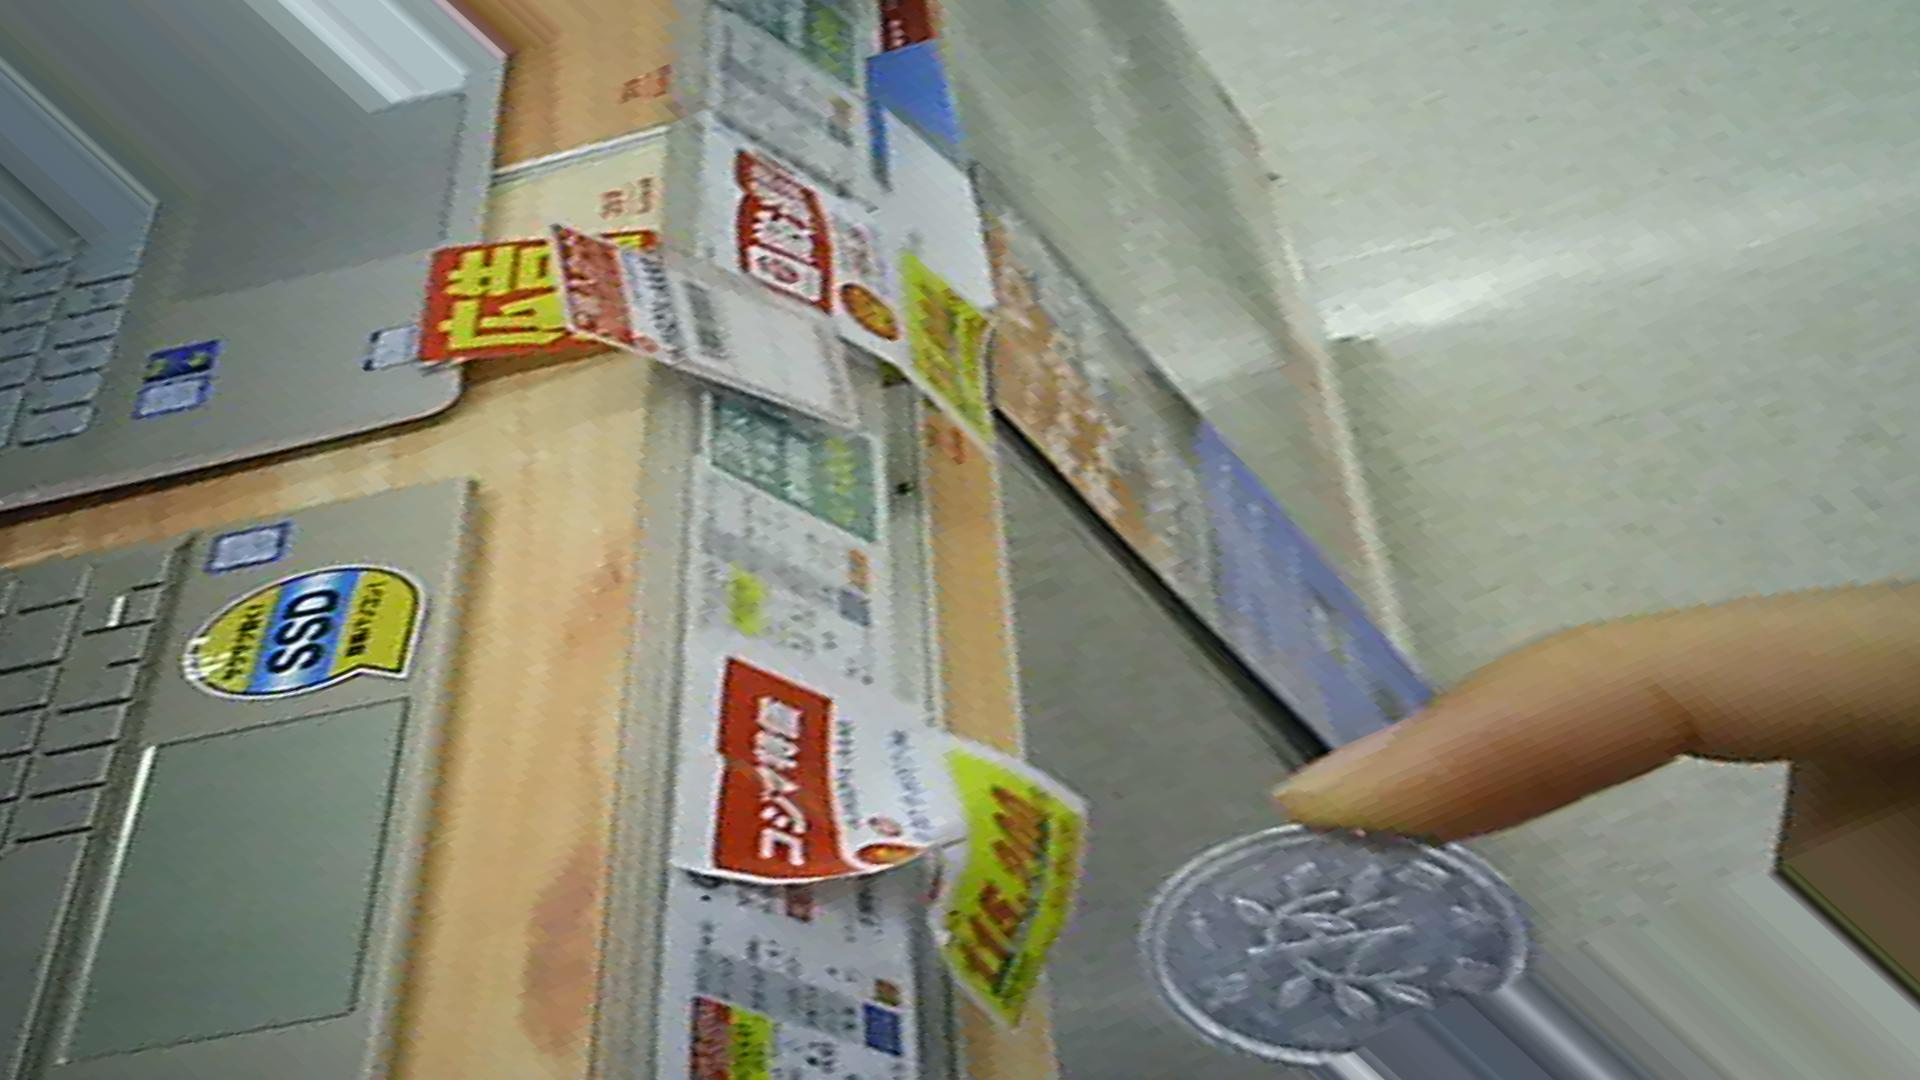1 Yen: (1143, 819, 1535, 1073)
